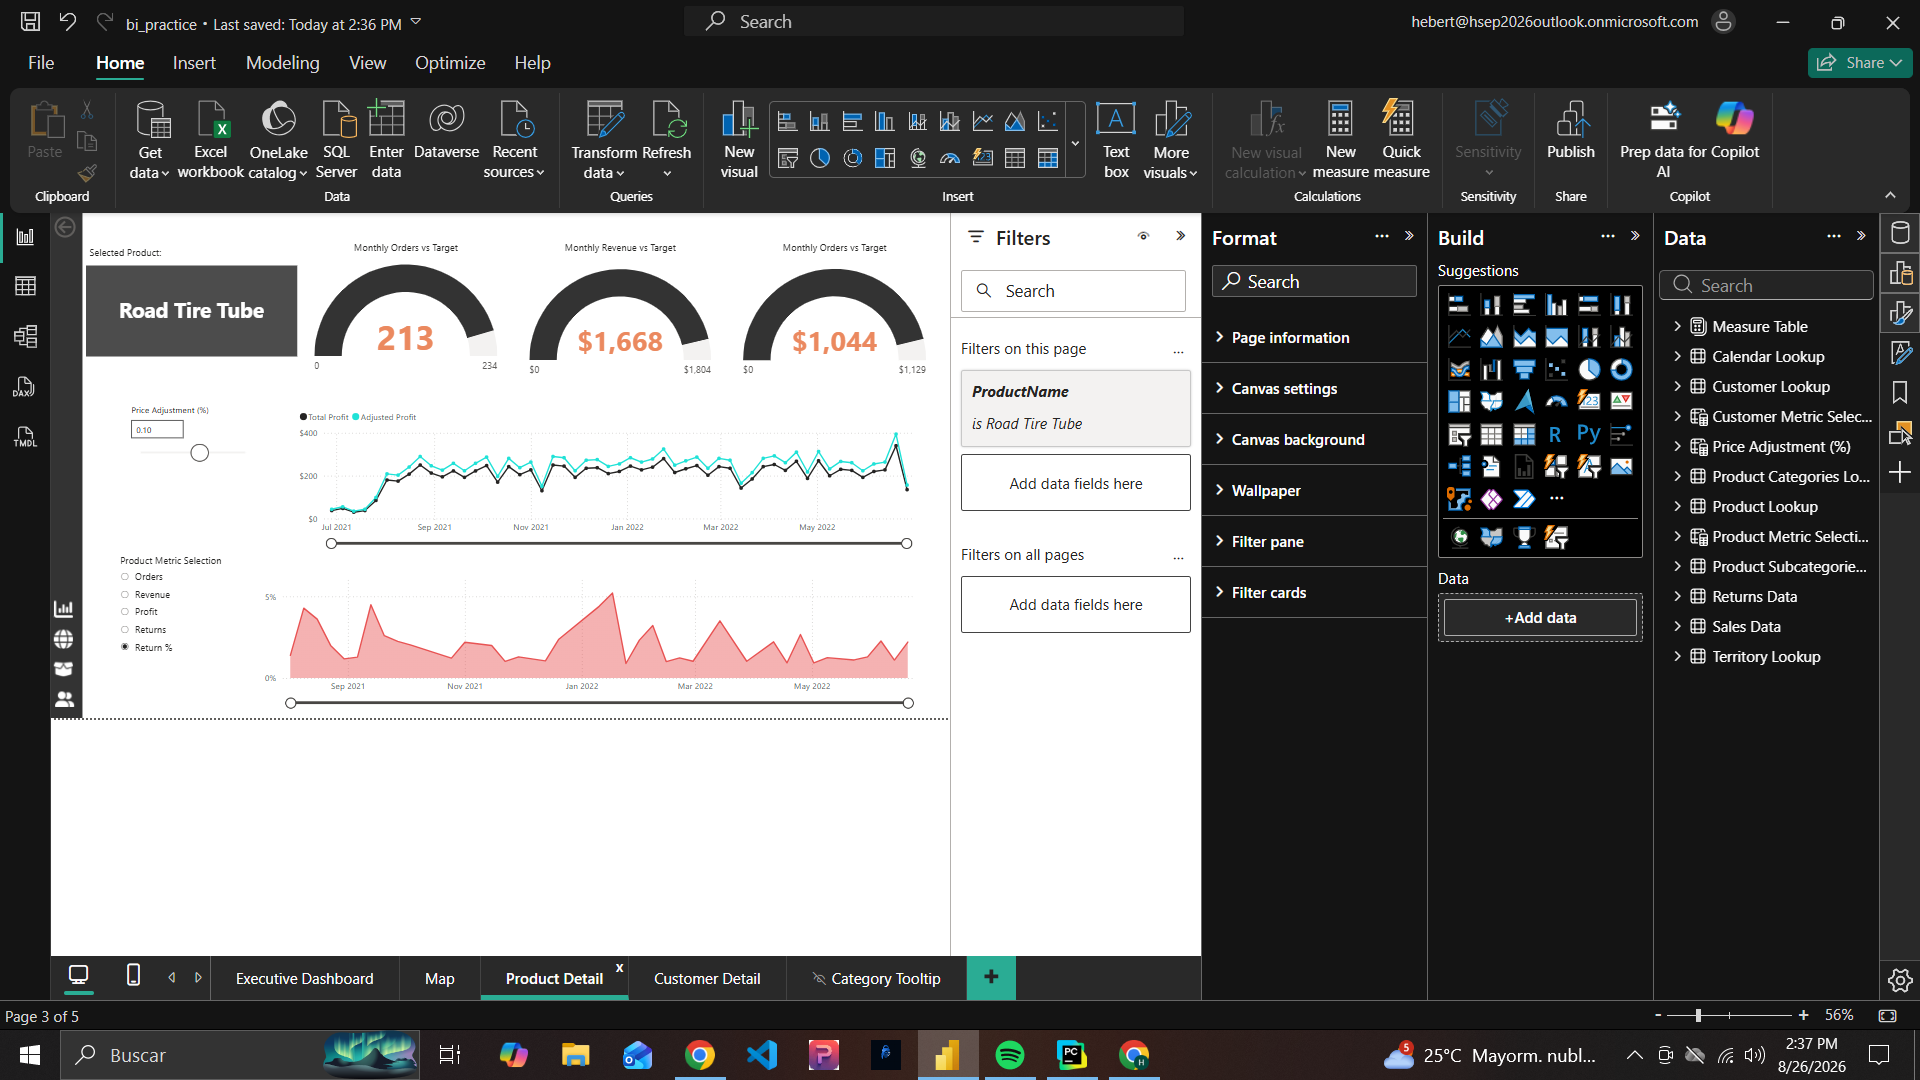

The page's visual inventory and layout, read from the dashboard file:
{"tool":"powerbi","page":{"name":"Product Detail","canvas":[1280,720],"ordinal":2},"visuals":[{"type":"shape","box":[0,0,45,720],"z":0},{"type":"gauge","title":"Monthly Orders vs Target","fields":{"MaxValue":["Measure Table.Order Target"],"Y":["Measure Table.Total Orders"]},"box":[370.2,39.2,270.5,197.6],"z":1000},{"type":"actionButton","box":[0,588.9,44.5,35.6],"z":1000,"group":"g1"},{"type":"gauge","title":"Monthly Revenue vs Target","fields":{"MaxValue":["Measure Table.Revenue Target"],"Y":["Measure Table.Total Revenue"]},"box":[676.3,39.2,268.7,210],"z":2000},{"type":"actionButton","box":[0,546,44.5,35.6],"z":2000,"group":"g1"},{"type":"gauge","title":"Monthly Orders vs Target","fields":{"MaxValue":["Measure Table.Profit Target"],"Y":["Measure Table.Total Profit"]},"box":[980.7,39.2,270.5,210],"z":3000},{"type":"actionButton","box":[0,631.9,44.5,35.6],"z":3000,"group":"g1"},{"type":"lineChart","title":"Profit Trending","fields":{"Category":["Calendar Lookup.Date Hierarchy.Start of Year","Calendar Lookup.Date Hierarchy.Start of Month","Calendar Lookup.Date Hierarchy.Start of Week","Calendar Lookup.Date Hierarchy.Date"],"Y":["Measure Table.Total Profit","Measure Table.Adjusted Profit"]},"box":[349.7,271.4,901.3,210.8],"z":4000},{"type":"actionButton","box":[1.4,674.8,41.7,35.6],"z":4000,"group":"g1"},{"type":"areaChart","title":"Returns Trending","fields":{"Category":["Calendar Lookup.Date Hierarchy.Start of Year","Calendar Lookup.Date Hierarchy.Start of Month","Calendar Lookup.Date Hierarchy.Start of Week","Calendar Lookup.Date Hierarchy.Date"],"Y":["Measure Table.Return Rate"]},"box":[299,509,952.2,199.3],"z":5000},{"type":"actionButton","box":[0,0,100,40],"z":6000},{"type":"card","fields":{"Values":["Min(Product Lookup.ProductName)"]},"box":[49.8,75,300.8,129.9],"z":7000},{"type":"textbox","box":[49.8,43,176.2,32],"z":8000},{"type":"group","id":"g1","title":"Navigation Buttons","box":[0,546,44.5,164.4],"z":9000},{"type":"slicer","fields":{"Values":["Price Adjustment (%).Price Adjustment (%)"]},"box":[102.2,266.4,198.2,111.1],"z":10000},{"type":"slicer","fields":{"Values":["Product Metric Selection.Product Metric Selection"]},"box":[85.4,480.5,202,180.6],"z":11000}]}

Visuals, with their boxes on the page's 1280x720 design canvas (x1, y1, x2, y2). These are canvas units, not pixel positions in the 1920x1080 screenshot, which may show the page scaled, cropped or inside an application window:
shape: box=[0, 0, 45, 720]
"Monthly Orders vs Target" gauge: box=[370, 39, 641, 237]
actionButton: box=[0, 589, 44, 624]
"Monthly Revenue vs Target" gauge: box=[676, 39, 945, 249]
actionButton: box=[0, 546, 44, 582]
"Monthly Orders vs Target" gauge: box=[981, 39, 1251, 249]
actionButton: box=[0, 632, 44, 668]
"Profit Trending" lineChart: box=[350, 271, 1251, 482]
actionButton: box=[1, 675, 43, 710]
"Returns Trending" areaChart: box=[299, 509, 1251, 708]
actionButton: box=[0, 0, 100, 40]
card - Min(Product Lookup.ProductName): box=[50, 75, 351, 205]
textbox: box=[50, 43, 226, 75]
"Navigation Buttons" group: box=[0, 546, 44, 710]
slicer - Price Adjustment (%).Price Adjustment (%): box=[102, 266, 300, 378]
slicer - Product Metric Selection.Product Metric Selection: box=[85, 480, 287, 661]
